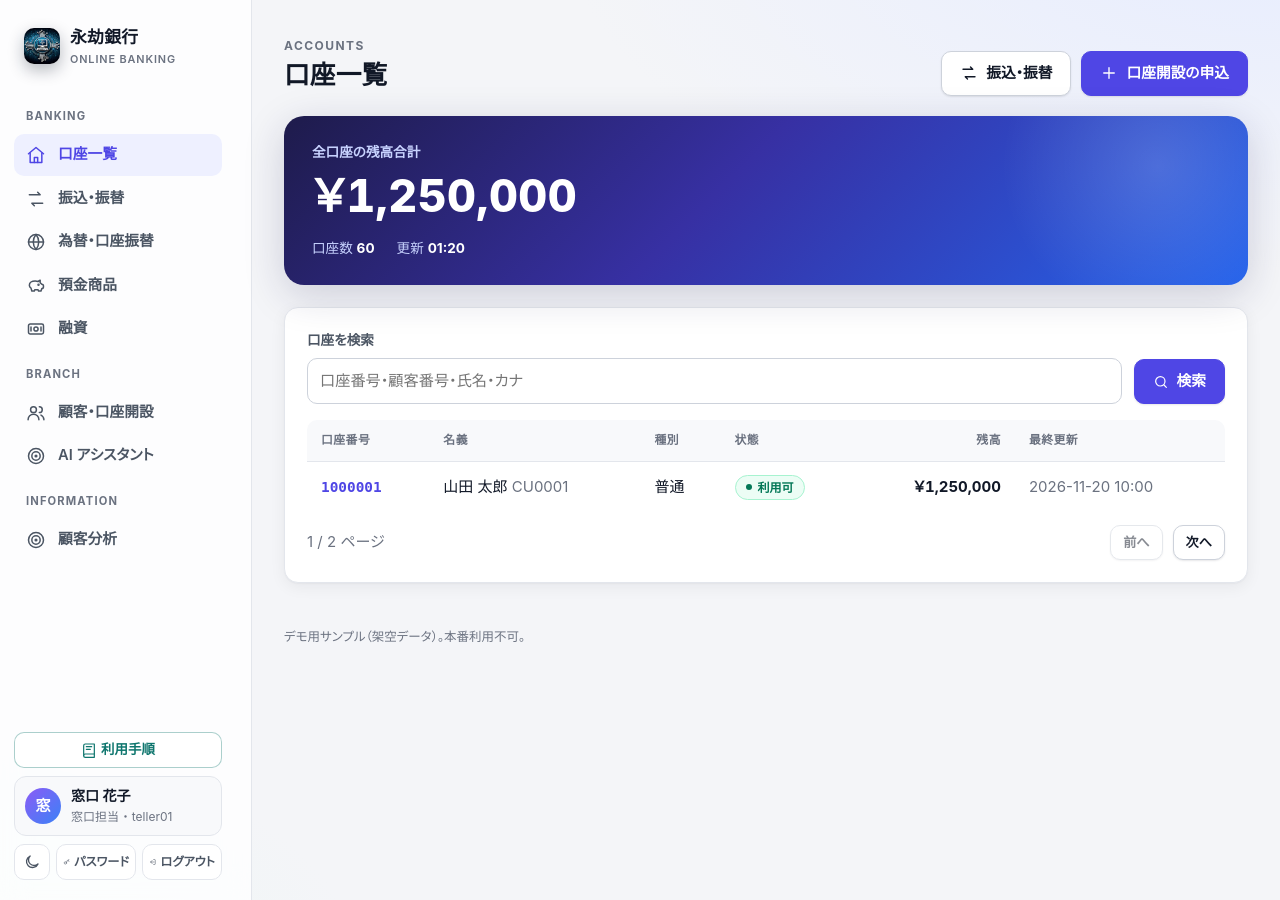
Test case: DashboardPage › 行員：次ページを先読みし、ページ送りできる
Expected: the text "1 / 2 ページ" is shown, [307,530,385,554]
Click the button "次へ" at (1199, 542), box [1173,525,1225,560]
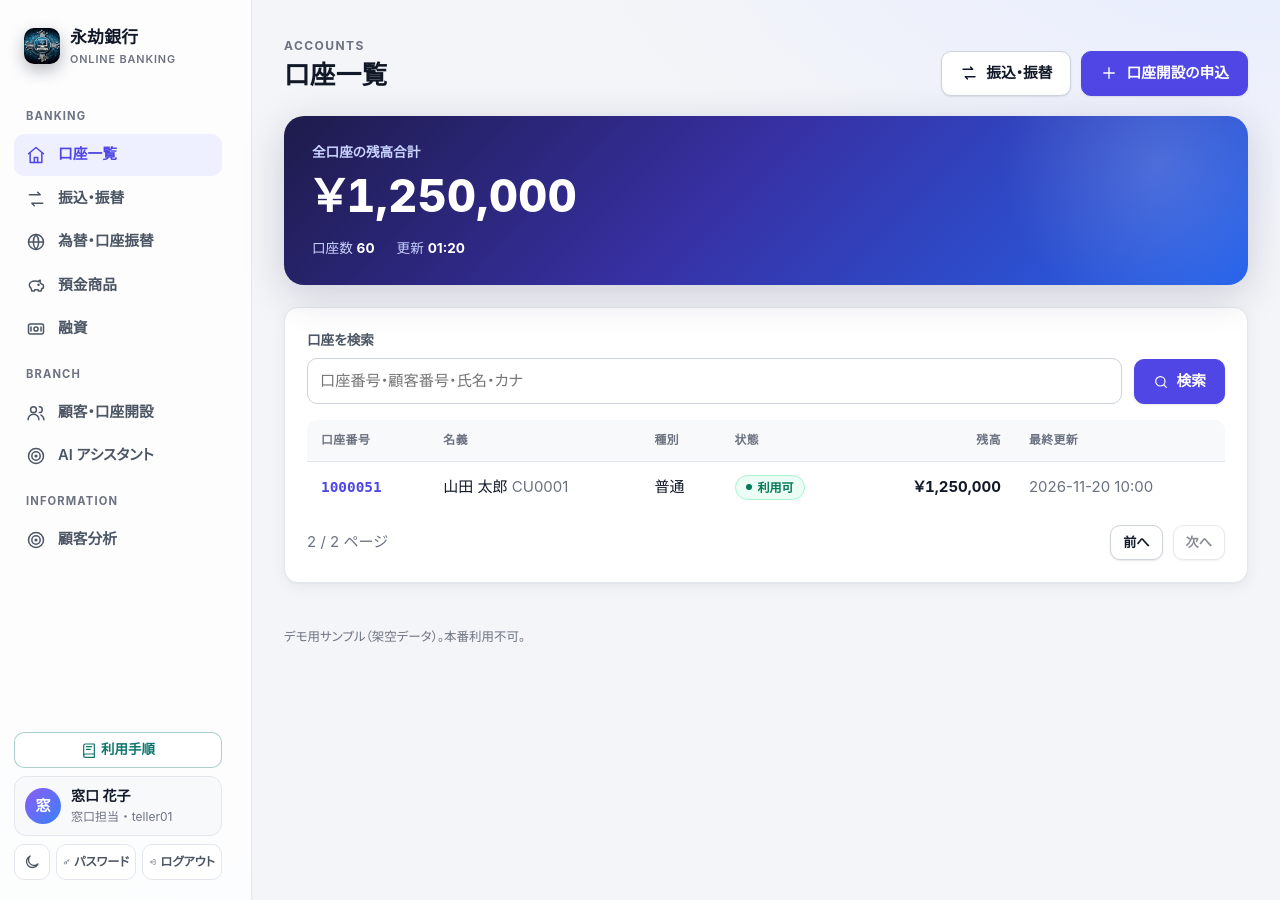
Expected: the link "1000051" is shown, [321,479,382,495]
Expected: the text "2 / 2 ページ" is shown, [307,530,388,554]
